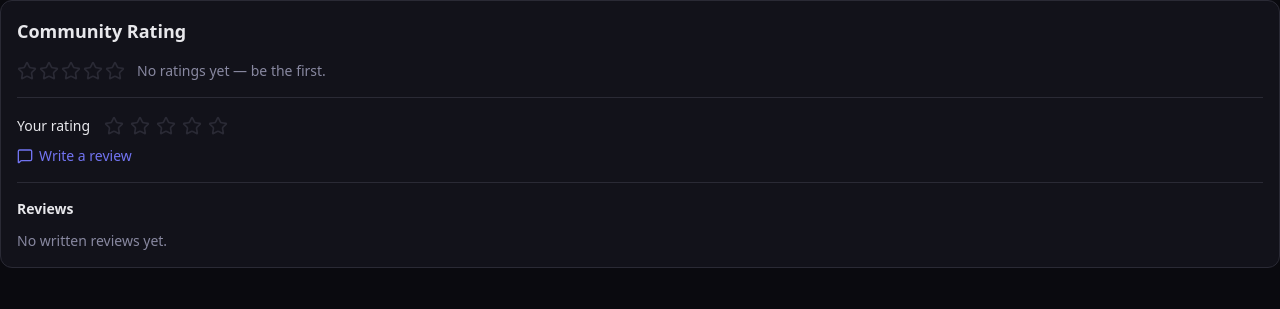
Test: DeckRatingPanel › warns when saving a rating fails
The width and height of the screenshot is (1280, 309).
Click the button named "rate 5 stars": (218, 126) x1=206 y1=114 x2=230 y2=138
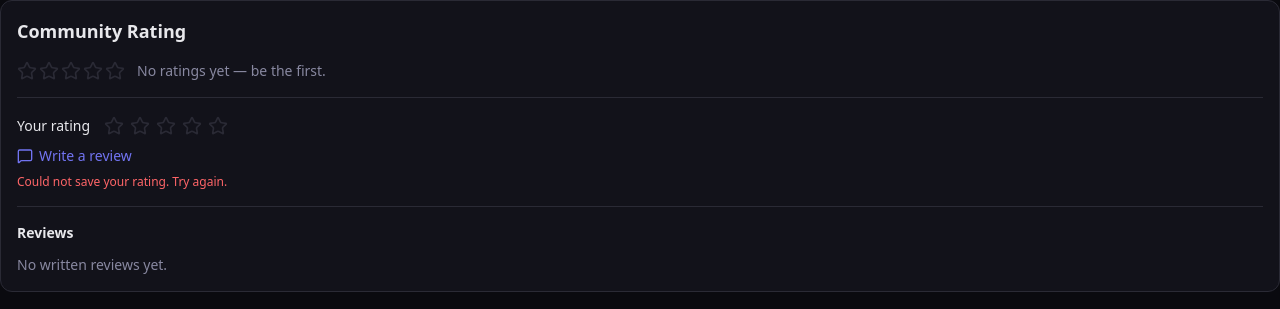
Result: the text "Could not save your rating. Try again." is shown at x1=17 y1=173 x2=227 y2=190
